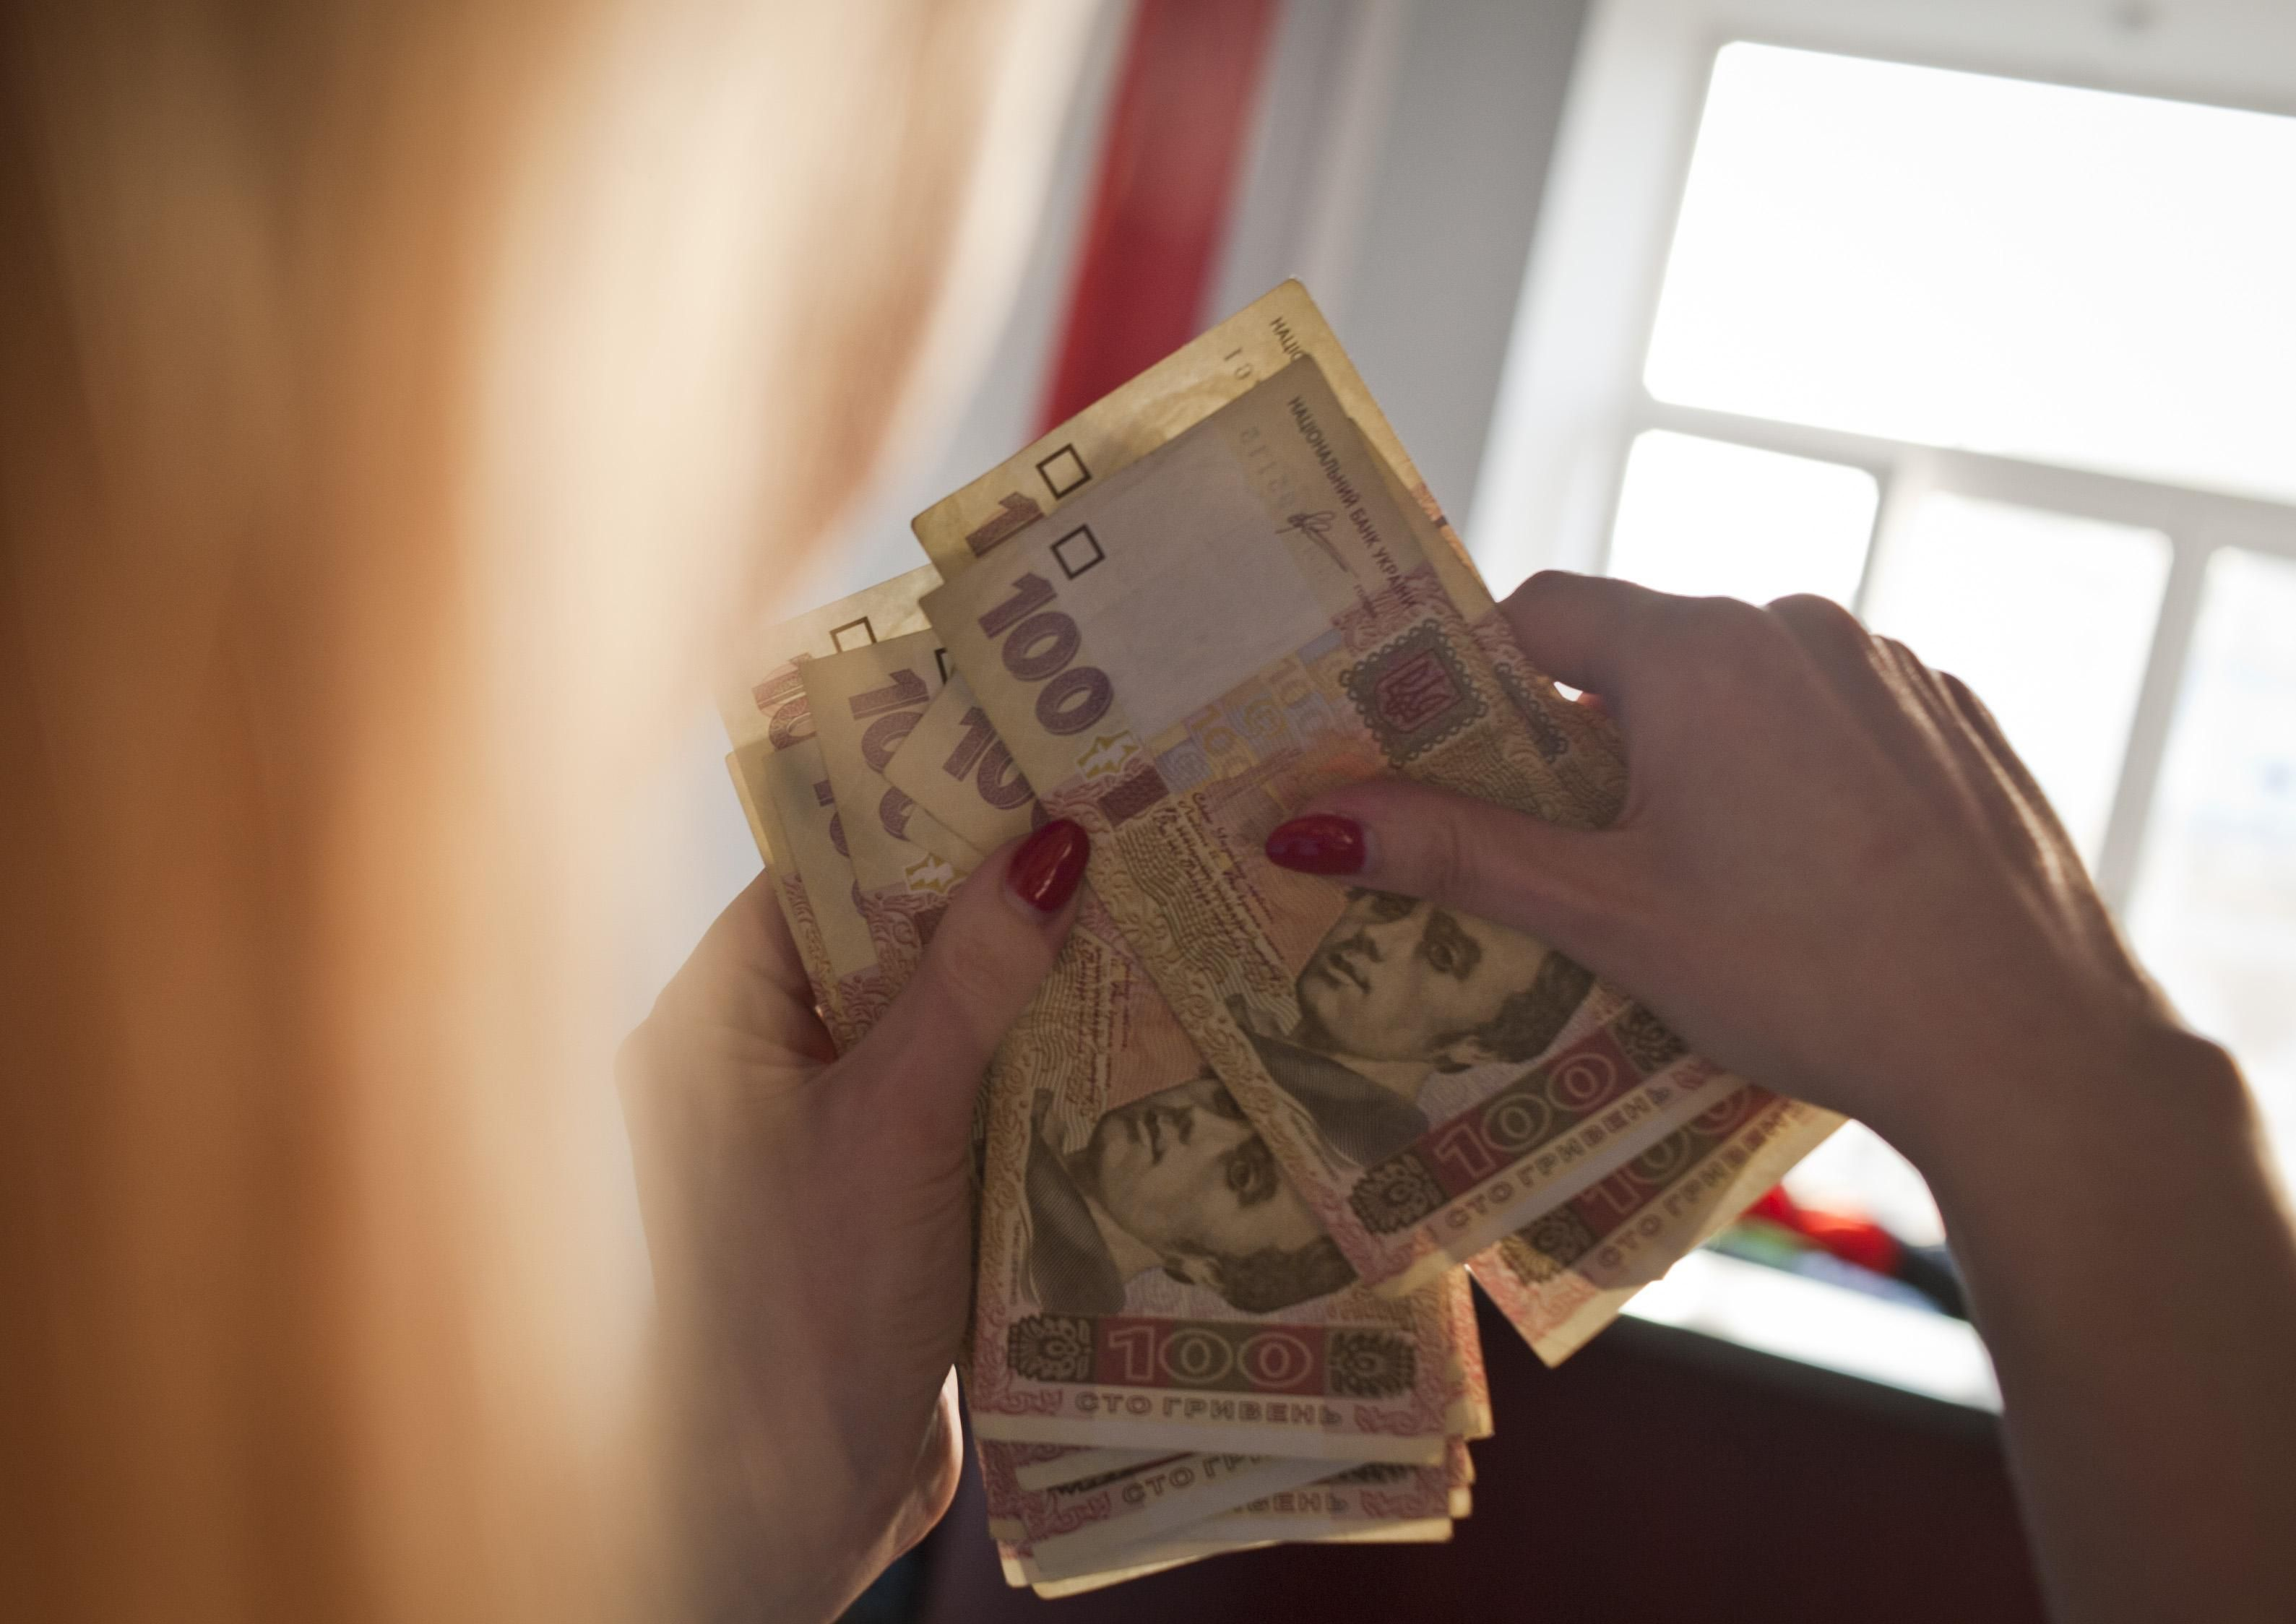bn_100: (756, 357, 1762, 1106), (735, 271, 1338, 569), (775, 1199, 1493, 1399)
